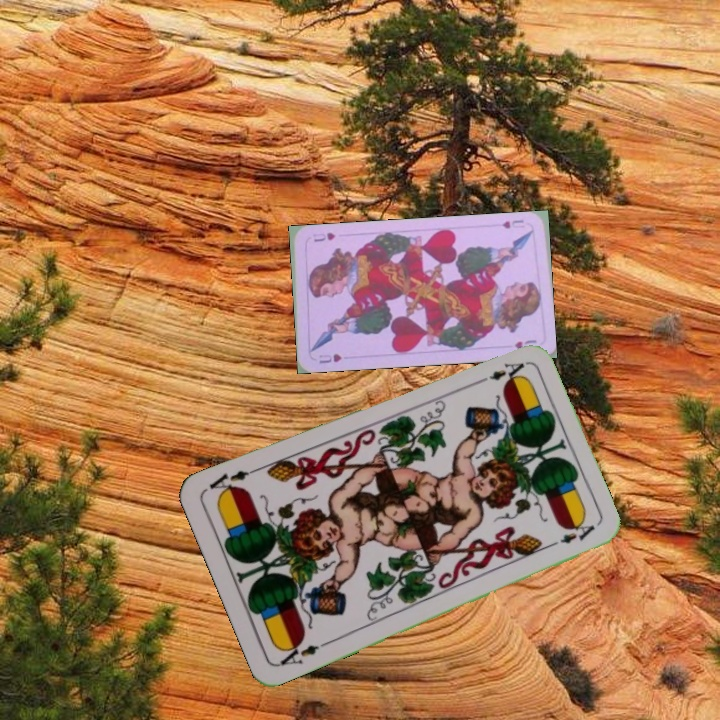EA: (471, 358, 527, 388), (274, 637, 321, 669)
HU: (314, 350, 344, 366), (498, 216, 527, 231)
